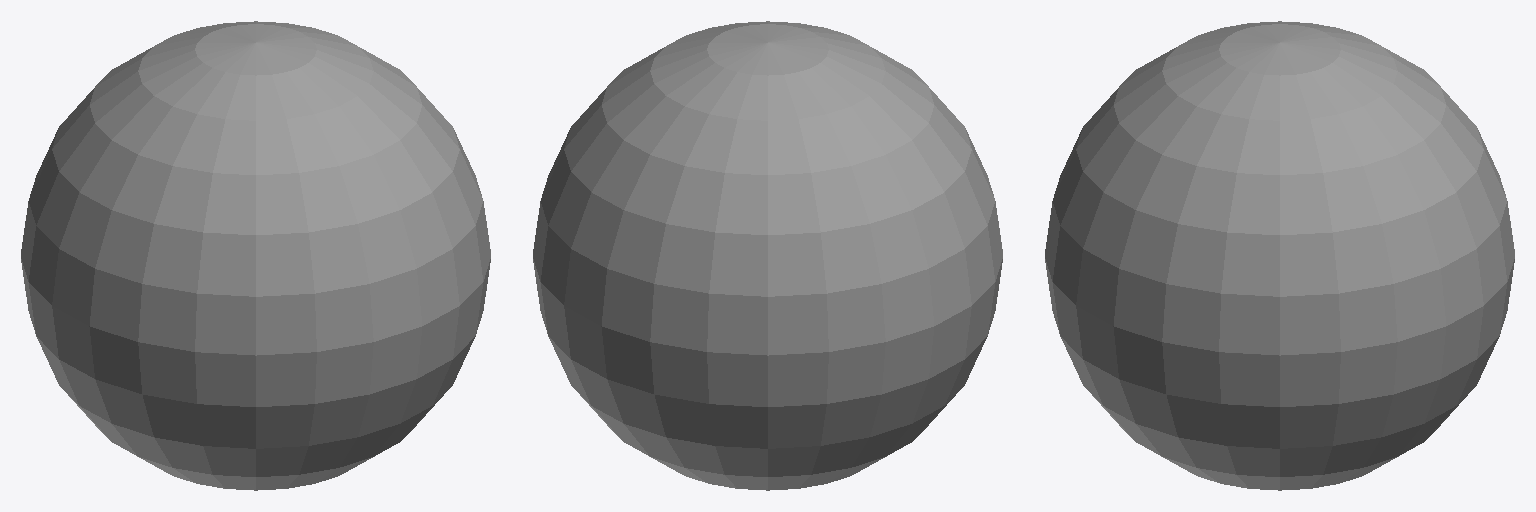
File: robot.obj
The picture shows the model from 3 angles: view 1: azimuth 30°, elevation 25°; view 2: azimuth 150°, elevation 25°; view 3: azimuth 270°, elevation 25°; orthographic projection.
Visible parts, largest first — view 1: Sphere-Bot_Leg.001; view 2: Sphere-Bot_Leg.001; view 3: Sphere-Bot_Leg.001.
Part boxes in pixels (bbox=[...]): Sphere-Bot_Leg.001: bbox=[21, 21, 490, 490]; Sphere-Bot_Leg.001: bbox=[533, 21, 1002, 490]; Sphere-Bot_Leg.001: bbox=[1045, 21, 1514, 490].
Size of the model in its own units: 2 by 2 by 2.